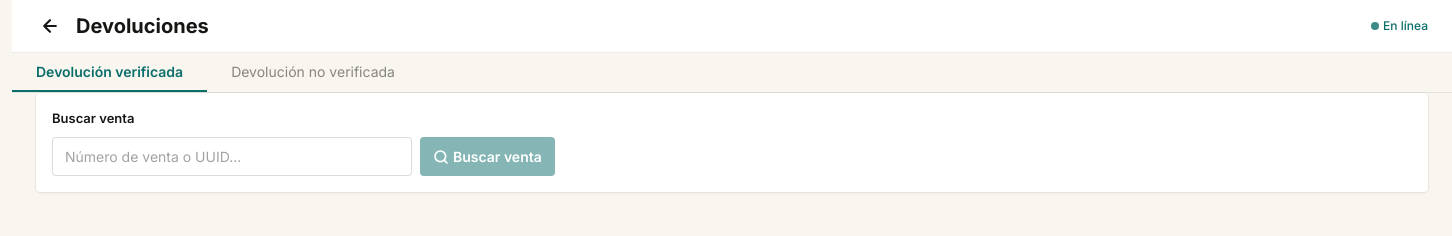
Scenario: ReturnsPage › RETP-07: error toast › shows an error banner when returnsService.searchSale throws
In the field with placeholder "Número de venta o UUID...": point(232, 156) [52,136,412,176], type "42"
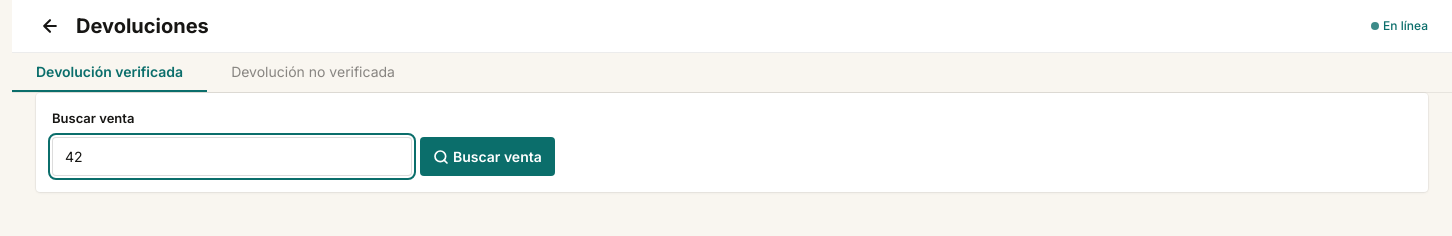
Click the button "Buscar venta": point(487, 156) [420,136,555,176]
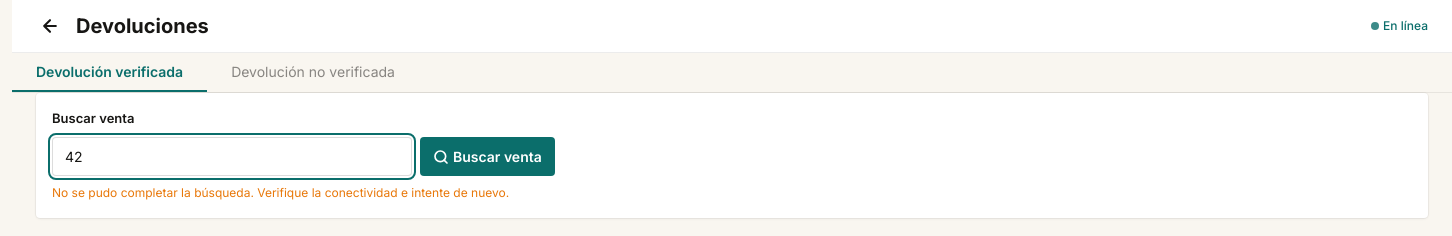
expect the message is shown: met, box [52,184,509,200]
